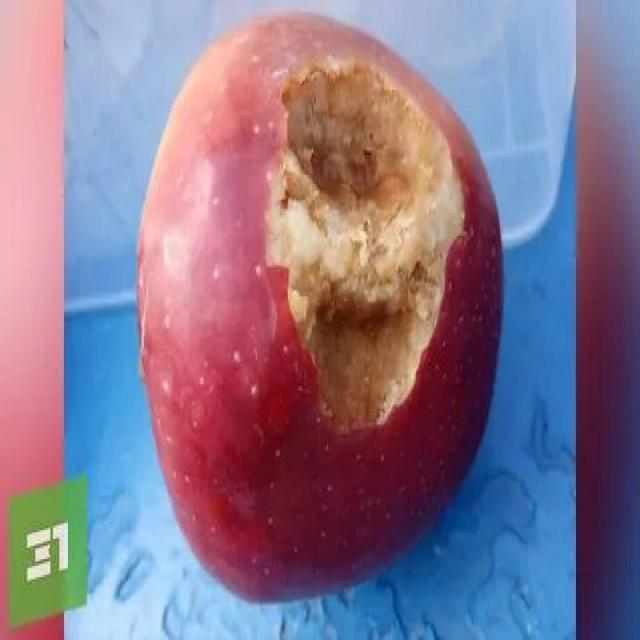Rotten: (132, 8, 493, 595)
